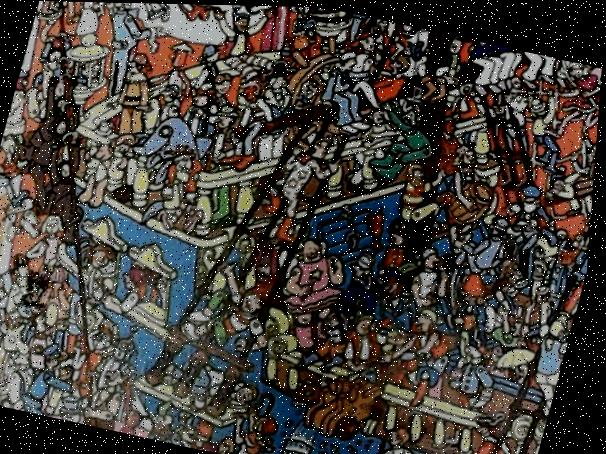waldo: (24, 270, 57, 311)
